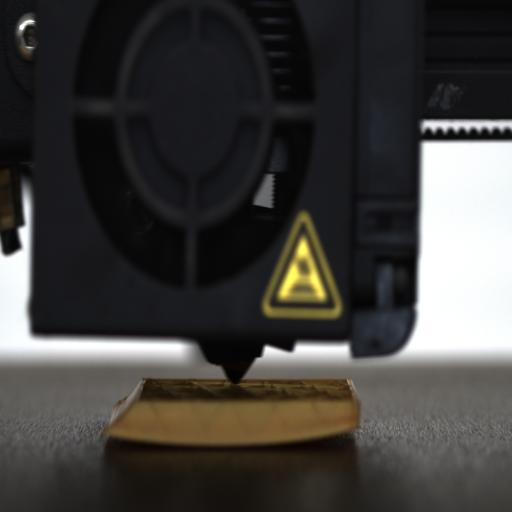warp: (230, 414, 372, 454), (100, 419, 202, 453)
